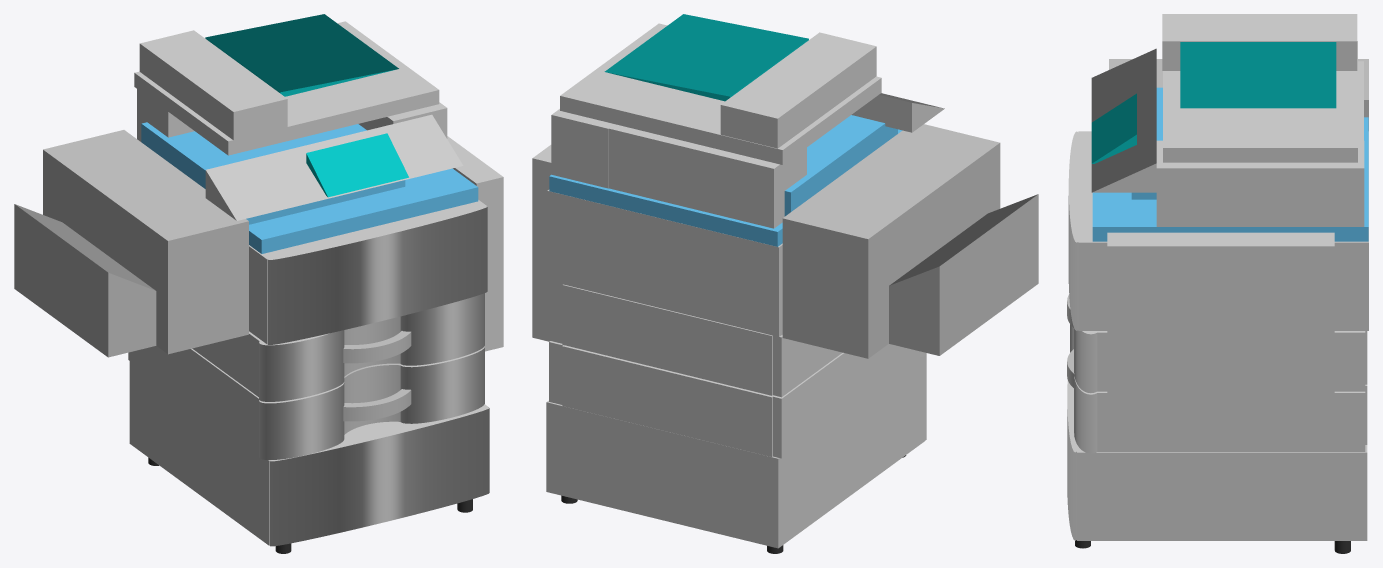
Rendered from photocopieuse.obj.
3 views of the same model, side by side, from view 1: azimuth 30°, elevation 25°; view 2: azimuth 150°, elevation 25°; view 3: azimuth 270°, elevation 25° (orthographic). The views are drawn at different scales.
Parts seen in each view (by area): view 1: Cube_1_25_25_25_25, Cylinder_1_1_19_19_19_19, Cylinder_1_1_1_1_1_1, Cube_1_2_2_2_2_2_2, Triangle_2_27_27_27_27, Cube_1_40_40, Triangle_2_34_34, Cube_1_41_41, Triangle_2_43_43, Cube_1_29_29, Cube_1_6_6_8_8_8_8, Cube_1_30_30 (+15 smaller); view 2: Cube_1_2_2_2_2_2_2, Cube_1_25_25_25_25, Cube_1_2_2_20_20_20_20, Cube_1_8_8_10_10_10_10, Cube_1_8_8_18_18_18_18, Cube_1_32_32, Cube_1_40_40, Triangle_2_27_27_27_27, Cube_1_41_41, Triangle_2_43_43, Cube_1_6_6_8_8_8_8, Cube_1_30_30 (+8 smaller); view 3: Cube_1_39_39, Cube_1_2_2_2_2_2_2, Cube_1_31_31, Cube_1_40_40, Triangle_2_43_43, Cube_1_7_7_9_9_9_9, Cube_1_2_2_20_20_20_20, Cube_1_41_41, Triangle_2_34_34, Cube_1_29_29, Cube_1_7_7_17_17_17_17, Cylinder_1_1_19_19_19_19 (+8 smaller).
Part boxes in pixels (x1,y1,x2,y2): Cube_1_25_25_25_25: (43, 130, 248, 354); Cylinder_1_1_19_19_19_19: (268, 206, 487, 344); Cylinder_1_1_1_1_1_1: (270, 407, 489, 546); Cube_1_2_2_2_2_2_2: (129, 361, 488, 545); Triangle_2_27_27_27_27: (14, 204, 155, 357); Cube_1_40_40: (134, 21, 439, 155); Triangle_2_34_34: (206, 114, 463, 220); Cube_1_41_41: (139, 30, 287, 140); Triangle_2_43_43: (205, 14, 398, 92); Cube_1_29_29: (249, 168, 478, 253); Cube_1_6_6_8_8_8_8: (128, 346, 259, 455); Cube_1_30_30: (141, 122, 405, 224); Cube_1_2_2_2_2_2_2: (546, 356, 925, 548); Cube_1_25_25_25_25: (782, 124, 1000, 358); Cube_1_2_2_20_20_20_20: (547, 189, 782, 336); Cube_1_8_8_10_10_10_10: (562, 345, 773, 456); Cube_1_8_8_18_18_18_18: (562, 284, 772, 395); Cube_1_32_32: (580, 116, 806, 228); Cube_1_40_40: (560, 23, 881, 164); Triangle_2_27_27_27_27: (889, 194, 1038, 355); Cube_1_41_41: (720, 32, 876, 148); Triangle_2_43_43: (604, 14, 808, 97); Cube_1_6_6_8_8_8_8: (767, 344, 920, 458); Cube_1_30_30: (784, 115, 897, 216); Cube_1_39_39: (1107, 232, 1334, 422); Cube_1_2_2_2_2_2_2: (1077, 445, 1367, 540); Cube_1_31_31: (1156, 140, 1364, 226); Cube_1_40_40: (1163, 41, 1357, 162); Triangle_2_43_43: (1180, 42, 1336, 108); Cube_1_7_7_9_9_9_9: (1095, 391, 1365, 451); Cube_1_2_2_20_20_20_20: (1078, 131, 1368, 330); Cube_1_41_41: (1162, 14, 1357, 70); Triangle_2_34_34: (1091, 48, 1156, 192); Cube_1_29_29: (1092, 117, 1368, 241); Cube_1_7_7_17_17_17_17: (1092, 331, 1365, 391); Cylinder_1_1_19_19_19_19: (1068, 131, 1084, 330).
Bounding box in the file's own units: 106 × 110 × 69.5.
